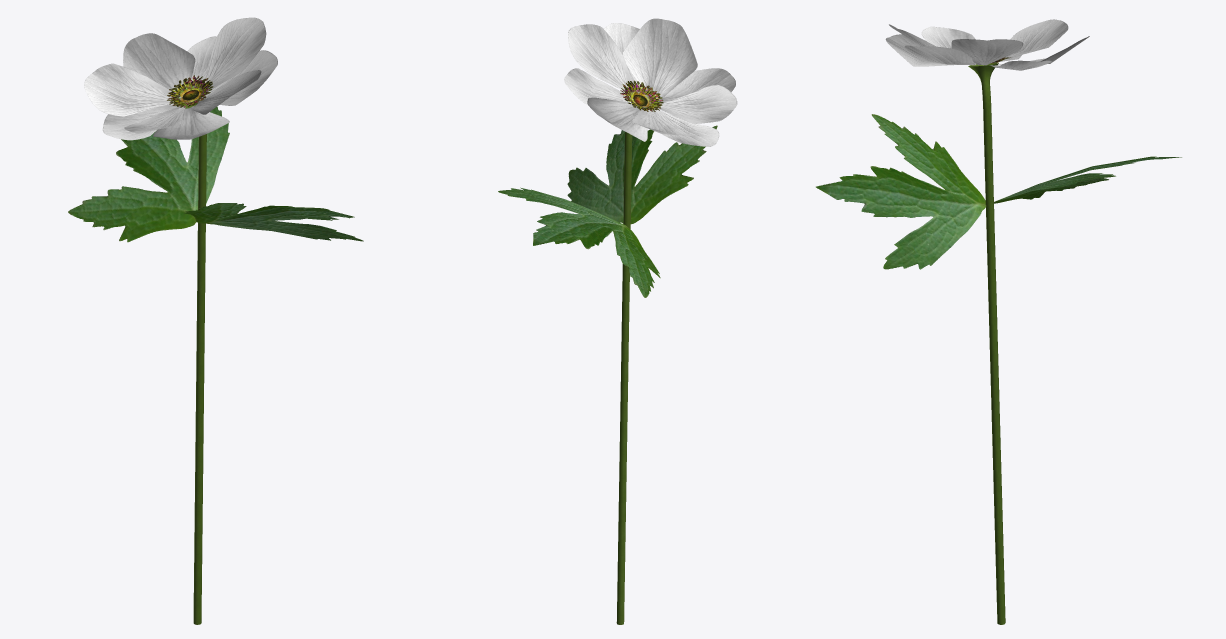
File: flowerFull 1.fbx
The picture shows the model from 3 angles, left to right: view 1: azimuth 30°, elevation 25°; view 2: azimuth 150°, elevation 25°; view 3: azimuth 270°, elevation 25°; orthographic projection. The views are drawn at different scales.
Parts seen in each view (by area): view 1: Cylinder.006; view 2: Cylinder.006; view 3: Cylinder.006.
Part boxes in pixels (x1,y1,x2,y2): Cylinder.006: (68,17,363,624); Cylinder.006: (498,18,737,624); Cylinder.006: (816,19,1181,624).
Size of the model in its own units: 333 by 820 by 526.
2 materials, 2 textured.
